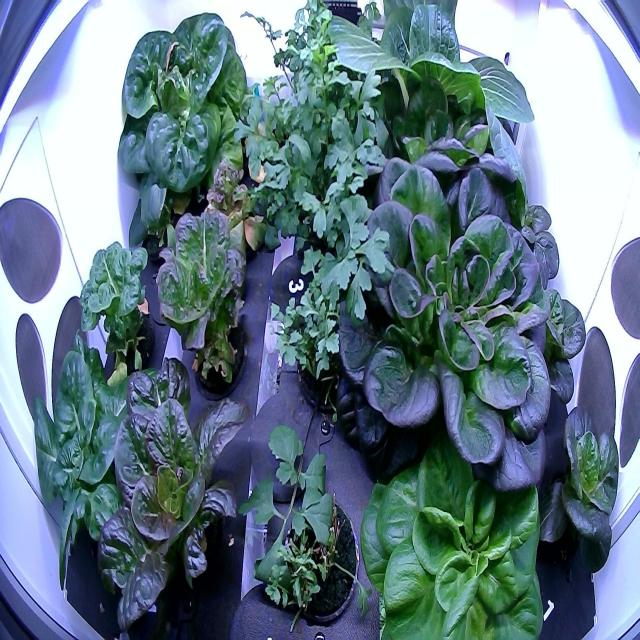Ready: (317, 133, 566, 507), (109, 4, 262, 250)
young: (82, 344, 252, 636), (352, 400, 553, 639), (22, 328, 137, 604), (156, 185, 265, 398), (63, 210, 161, 389), (541, 382, 623, 586)
